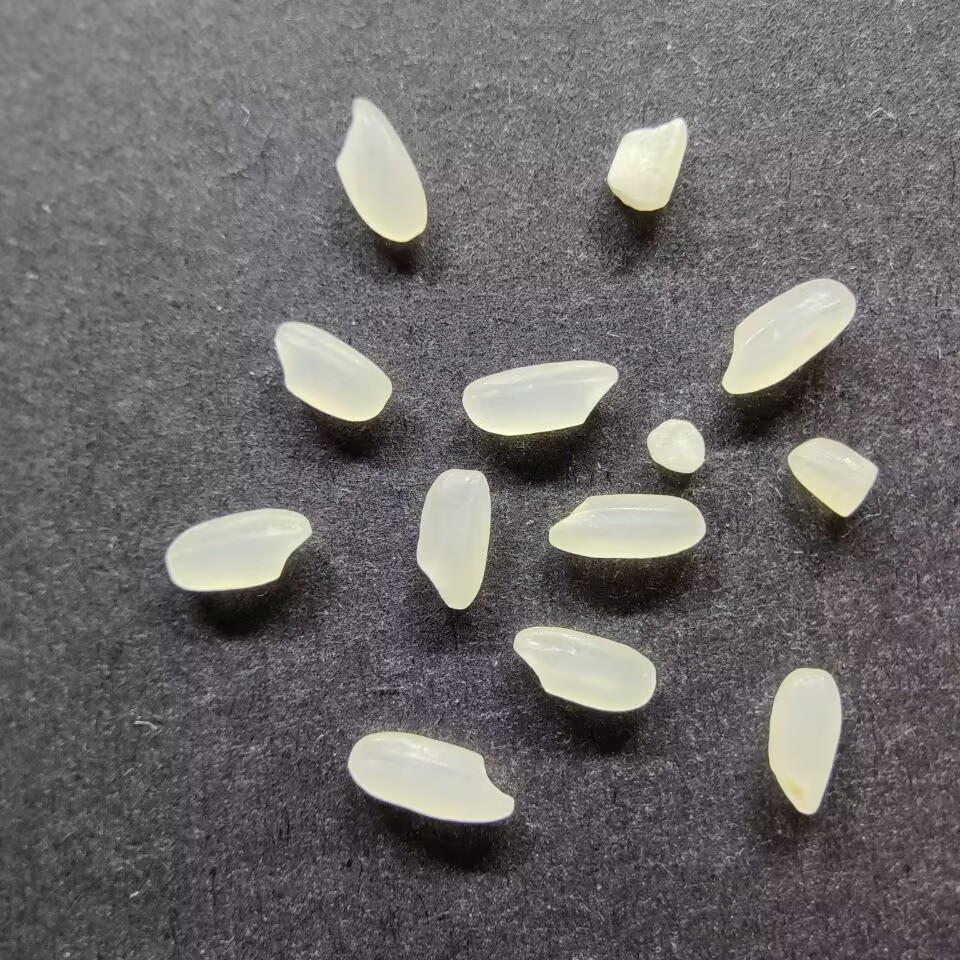broken: (606, 117, 688, 213), (786, 436, 878, 517), (645, 419, 704, 473)
rice: (720, 277, 856, 395), (346, 731, 514, 824), (334, 96, 428, 243), (512, 625, 656, 712), (165, 507, 310, 591), (460, 360, 619, 436), (273, 321, 392, 422), (767, 667, 842, 815), (414, 468, 491, 609), (547, 492, 705, 559)
